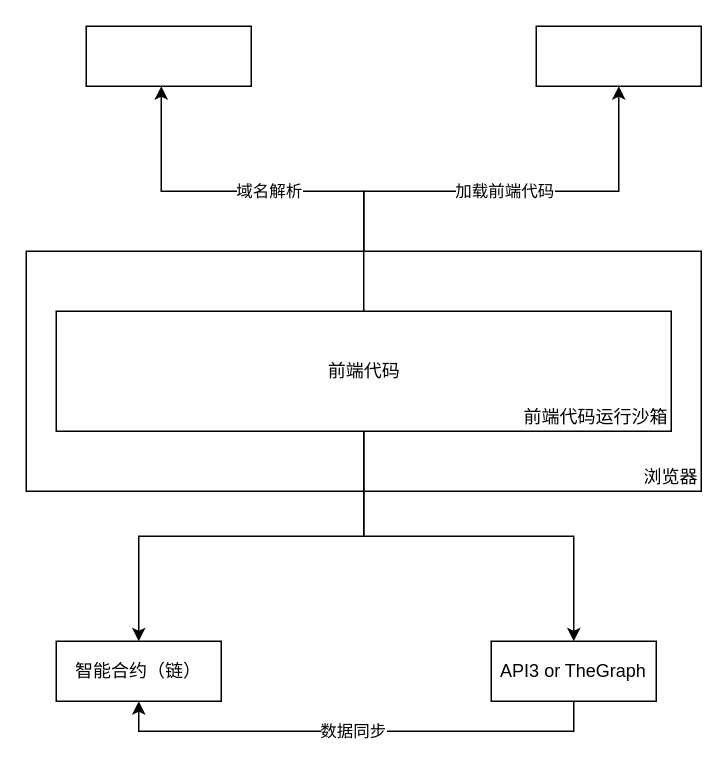
Some shapes in this 728 by 770 pixel diagram are drawn without their labels. Each missing label, with the centre of its shape:
"ENS" goes at (168,55).
"IPFS" goes at (618,55).
